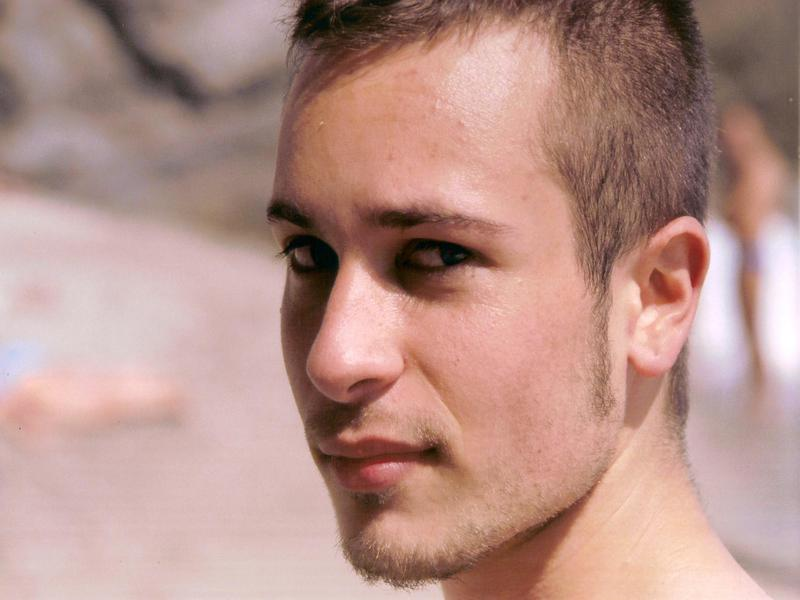person: (264, 1, 768, 599)
